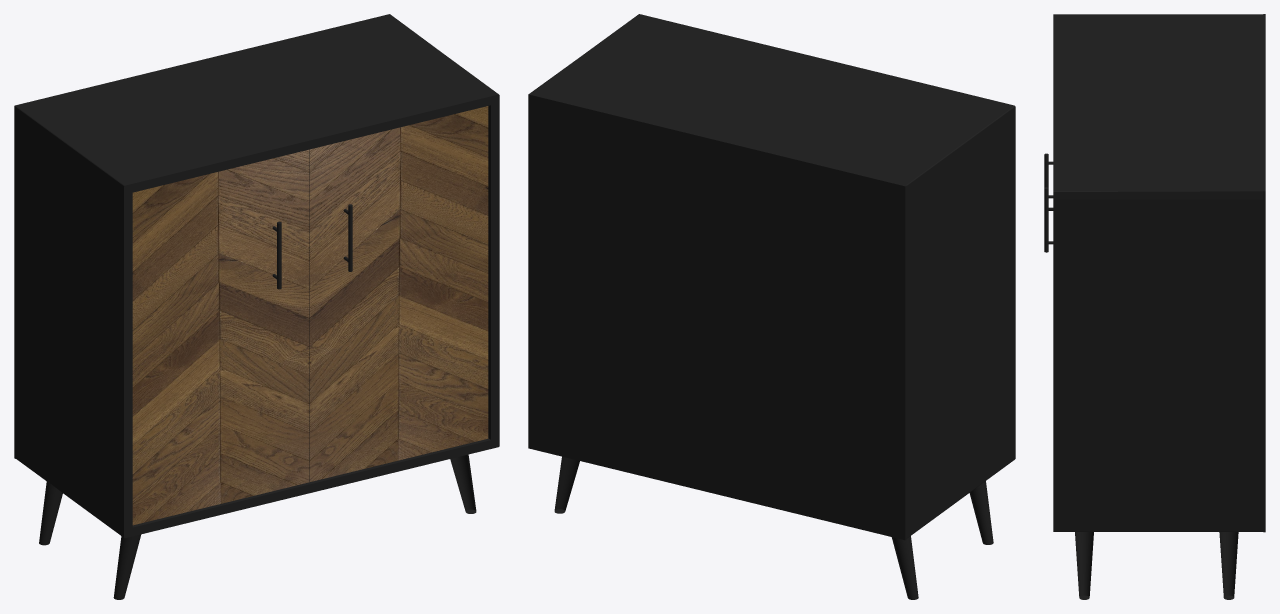
Rendered from storage9.glb.
The picture shows the model from 3 angles, left to right: view 1: azimuth 30°, elevation 25°; view 2: azimuth 150°, elevation 25°; view 3: azimuth 270°, elevation 25°; orthographic projection. The views are drawn at different scales.
Parts seen in each view (by area): view 1: G-Object.004_0, G-Object.001_2, G-Object.002_1; view 2: G-Object.004_0; view 3: G-Object.004_0, G-Object.001_2.
Part boxes in pixels (x1,y1,x2,y2): G-Object.004_0: (14,14,499,599); G-Object.001_2: (309,106,488,481); G-Object.002_1: (132,149,309,525); G-Object.004_0: (528,14,1015,599); G-Object.004_0: (1053,14,1265,599); G-Object.001_2: (1044,187,1053,252).
Size of the model in its own units: 0.8 by 0.868 by 0.4221.
2 materials, 1 textured.
